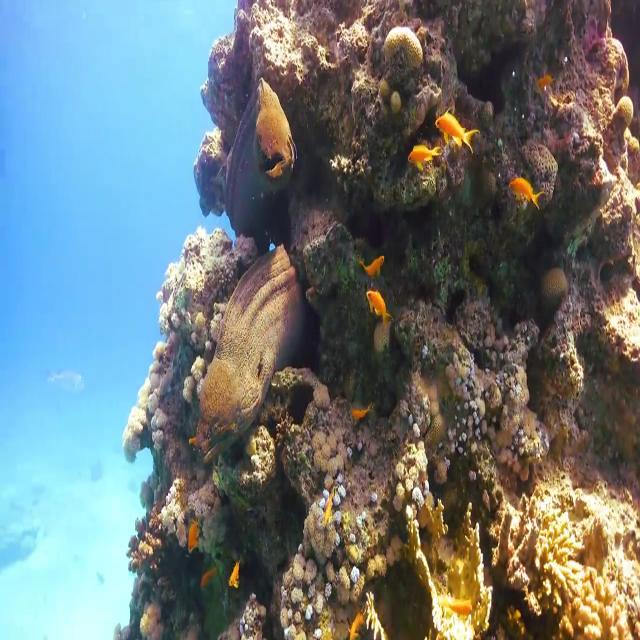fish: (202, 236, 315, 433), (212, 82, 307, 226), (427, 94, 472, 162), (501, 164, 552, 220), (355, 279, 391, 327), (406, 135, 442, 177), (358, 242, 388, 278)
